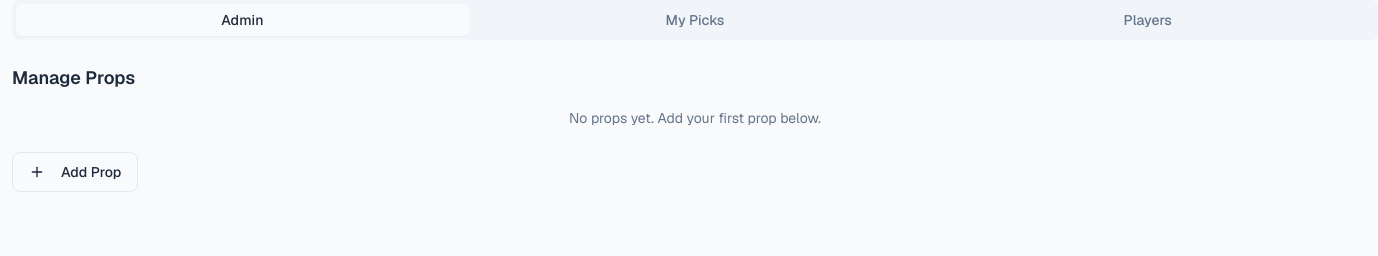
CaptainTabsClient › Players Tab › players list › renders player names and points
Click the tab "Players" at (1148, 20), box [921,4,1374,36]
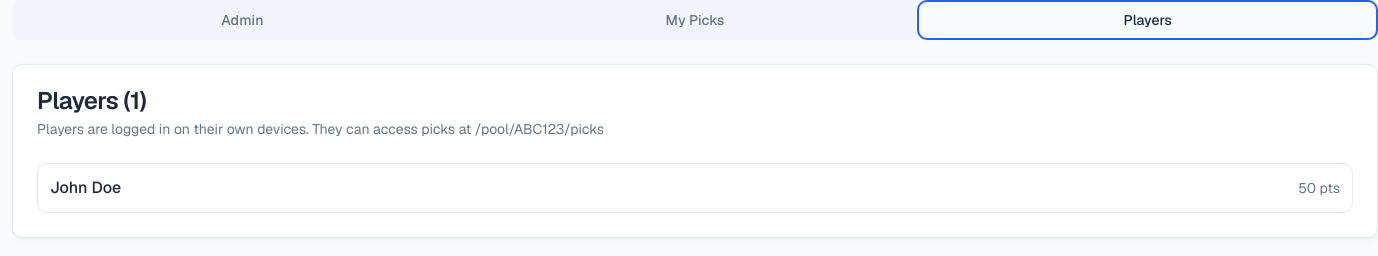
Expected: the text "John Doe" is shown, [50,176,121,200]
Expected: the text "50 pts" is shown, [1298,178,1340,198]
